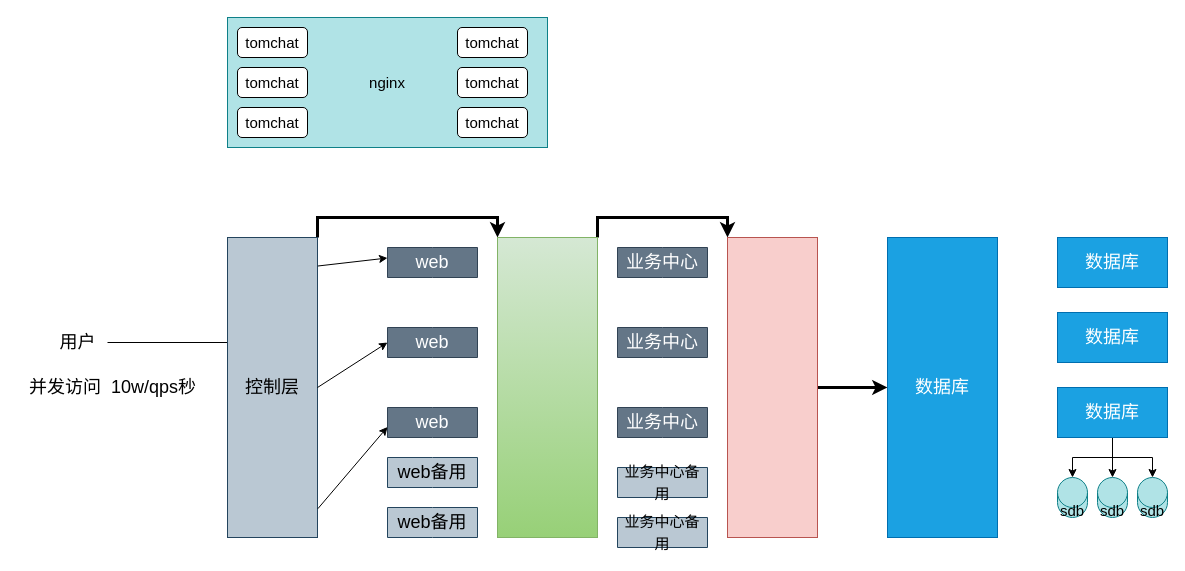
Some shapes in this 1185 by 571 pixel diagram are drawn without their labels. The centre of each missing label's shape, as x and y in pixels:
业务层: [547,387]
数据层: [772,387]
